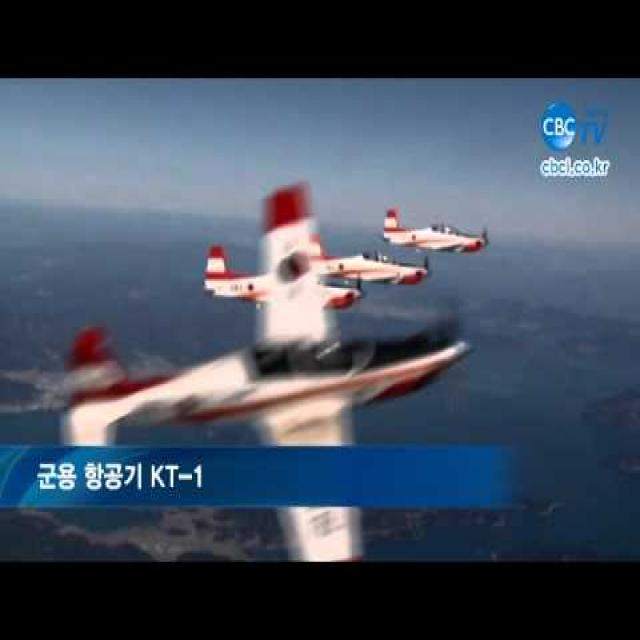KT-1: (51, 185, 472, 574), (197, 242, 368, 320), (286, 236, 430, 288), (378, 211, 494, 265)
